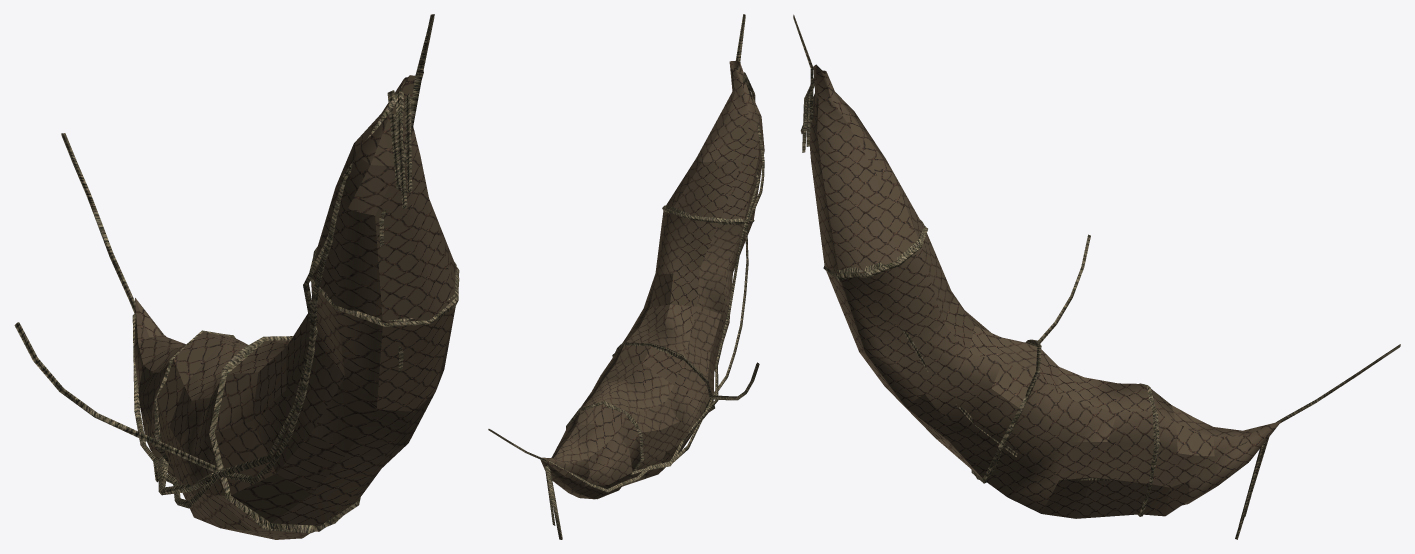
The model's file is fishing_net_hanging_bend.obj.
3 renders of one model, left to right at view 1: azimuth 30°, elevation 25°; view 2: azimuth 150°, elevation 25°; view 3: azimuth 270°, elevation 25°, orthographic. The views are drawn at different scales.
Visible parts, largest first — view 1: fishing_net_hanging_bend; view 2: fishing_net_hanging_bend; view 3: fishing_net_hanging_bend.
Boxes of the visible parts, left/top/right/bottom form: fishing_net_hanging_bend: left=14, top=14, right=459, bottom=539; fishing_net_hanging_bend: left=488, top=14, right=764, bottom=539; fishing_net_hanging_bend: left=793, top=14, right=1400, bottom=539.
Size of the model in its own units: 88.17 by 190 by 202.
